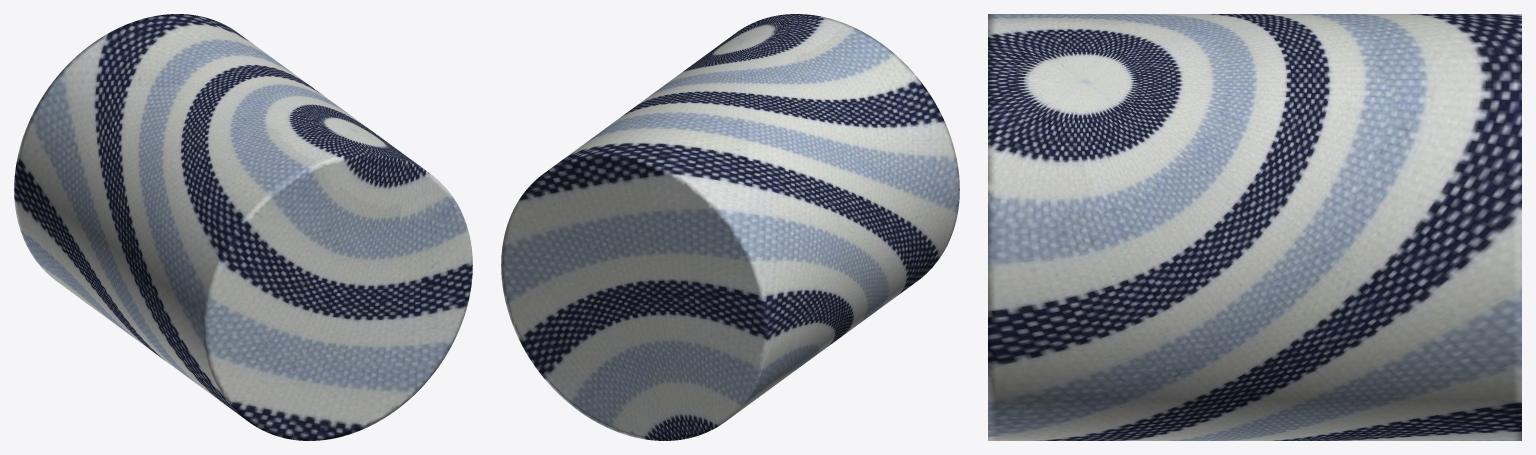
The picture shows the model from 3 angles, left to right: view 1: azimuth 30°, elevation 25°; view 2: azimuth 150°, elevation 25°; view 3: azimuth 270°, elevation 25°; orthographic projection. The views are drawn at different scales.
Parts seen in each view (by area): view 1: obj_000001_ours; view 2: obj_000001_ours; view 3: obj_000001_ours.
Part boxes in pixels (<box>): obj_000001_ours: <box>14,14,472,440</box>; obj_000001_ours: <box>501,14,959,440</box>; obj_000001_ours: <box>988,14,1521,440</box>.
Bounding box in the file's own units: 91.17 × 91.16 × 114.
1 material, 1 textured.
